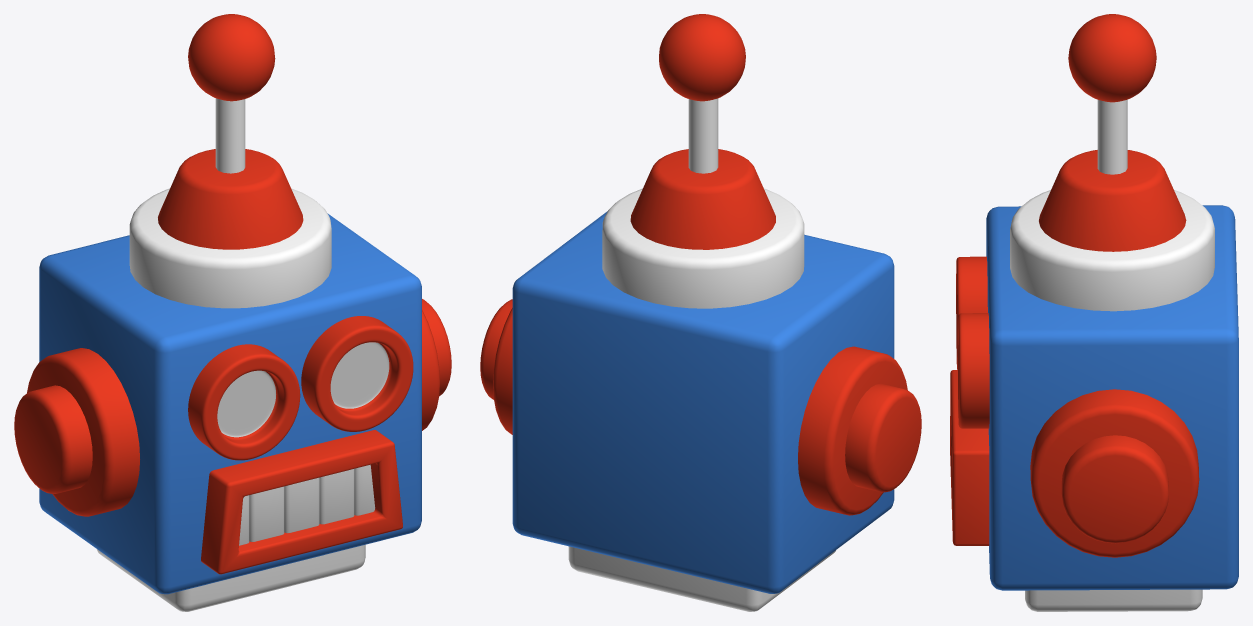
Rendered from robot-head-3d-animated-icon-467093345245.glb.
The picture shows the model from 3 angles, left to right: view 1: azimuth 30°, elevation 25°; view 2: azimuth 150°, elevation 25°; view 3: azimuth 270°, elevation 25°; orthographic projection.
Parts seen in each view (by area): view 1: Cube.013, Plane.003, Cylinder.019, Cylinder.020, Cylinder.025, Cylinder.026, Cylinder.023, Cylinder.024, Cube.018, Sphere.004, Cube.019, NurbsPath.002 (+2 smaller); view 2: Cube.013, Cylinder.019, Cylinder.020, Cylinder.023, Cylinder.024, Sphere.004, Cube.019, NurbsPath.002, Cylinder.021, Cylinder.022; view 3: Cube.013, Cylinder.019, Cylinder.021, Cylinder.020, Cylinder.022, Sphere.004, Plane.003, Cube.019, Cylinder.025, NurbsPath.002, Cylinder.026.
Boxes of the visible parts, bbox=[...] form: Cube.013: bbox=[39, 213, 421, 594]; Plane.003: bbox=[201, 430, 402, 574]; Cylinder.019: bbox=[129, 188, 331, 308]; Cylinder.020: bbox=[158, 149, 303, 249]; Cylinder.025: bbox=[301, 316, 413, 431]; Cylinder.026: bbox=[188, 344, 300, 460]; Cylinder.023: bbox=[27, 348, 139, 516]; Cylinder.024: bbox=[14, 385, 92, 493]; Cube.018: bbox=[239, 464, 375, 545]; Sphere.004: bbox=[188, 14, 275, 101]; Cube.019: bbox=[96, 544, 365, 611]; NurbsPath.002: bbox=[215, 98, 245, 173]; Cube.013: bbox=[512, 211, 894, 593]; Cylinder.019: bbox=[602, 188, 804, 308]; Cylinder.020: bbox=[630, 149, 775, 249]; Cylinder.023: bbox=[798, 346, 907, 515]; Cylinder.024: bbox=[845, 383, 921, 492]; Sphere.004: bbox=[659, 14, 745, 101]; Cube.019: bbox=[568, 546, 835, 611]; NurbsPath.002: bbox=[688, 98, 718, 173]; Cylinder.021: bbox=[493, 308, 512, 434]; Cylinder.022: bbox=[480, 299, 512, 399]; Cube.013: bbox=[986, 205, 1238, 590]; Cylinder.019: bbox=[1010, 190, 1214, 311]; Cylinder.021: bbox=[1030, 389, 1199, 557]; Cylinder.020: bbox=[1039, 150, 1186, 251]; Cylinder.022: bbox=[1061, 435, 1168, 543]; Sphere.004: bbox=[1068, 14, 1156, 102]; Plane.003: bbox=[950, 370, 989, 545]; Cube.019: bbox=[1025, 589, 1202, 611]; Cylinder.025: bbox=[958, 313, 989, 428]; NurbsPath.002: bbox=[1097, 99, 1127, 174]; Cylinder.026: bbox=[956, 256, 987, 370].
Bounding box in the file's own units: 7.81 × 10.35 × 4.91.
